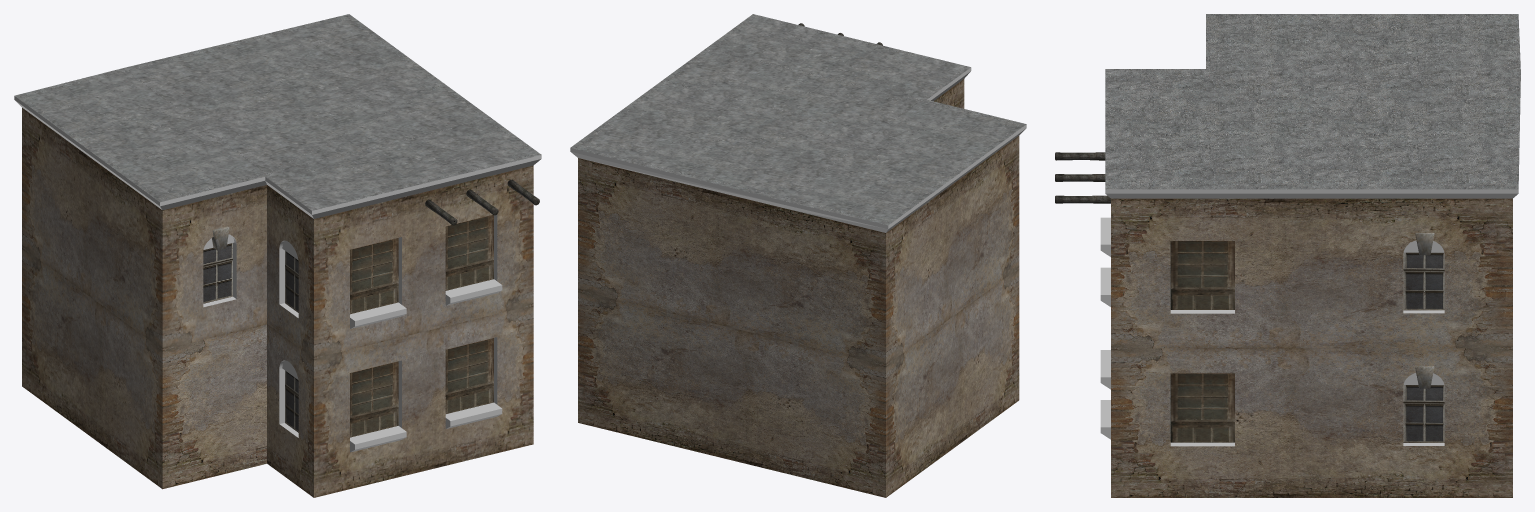
Rendered from Building_06.fbx.
3 renders of one model, left to right at view 1: azimuth 30°, elevation 25°; view 2: azimuth 150°, elevation 25°; view 3: azimuth 270°, elevation 25°, orthographic. The views are drawn at different scales.
Parts seen in each view (by area): view 1: Building_06; view 2: Building_06; view 3: Building_06.
Part boxes in pixels (x1=…): Building_06: x1=14, y1=14, x2=541, y2=497; Building_06: x1=570, y1=14, x2=1026, y2=497; Building_06: x1=1055, y1=14, x2=1520, y2=497.
Bounding box in the file's own units: 517 × 428 × 580.
